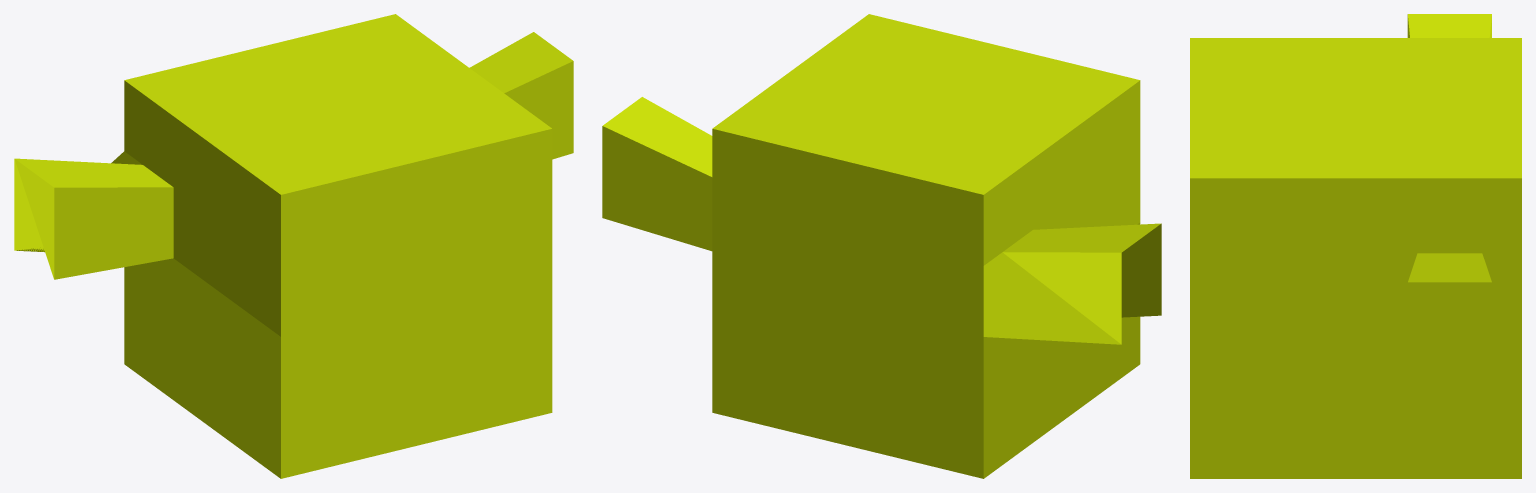
Rendered from monkey_lod_far.glb.
3 renders of one model, left to right at view 1: azimuth 30°, elevation 25°; view 2: azimuth 150°, elevation 25°; view 3: azimuth 270°, elevation 25°, orthographic. The views are drawn at different scales.
Visible parts, largest first — view 1: Cube; view 2: Cube; view 3: Cube.
Boxes of the visible parts, left/top/right/bottom form: Cube: left=14, top=14, right=573, bottom=478; Cube: left=602, top=14, right=1161, bottom=478; Cube: left=1190, top=14, right=1521, bottom=478.
Bounding box in the file's own units: 2.51 × 1.31 × 1.31.
